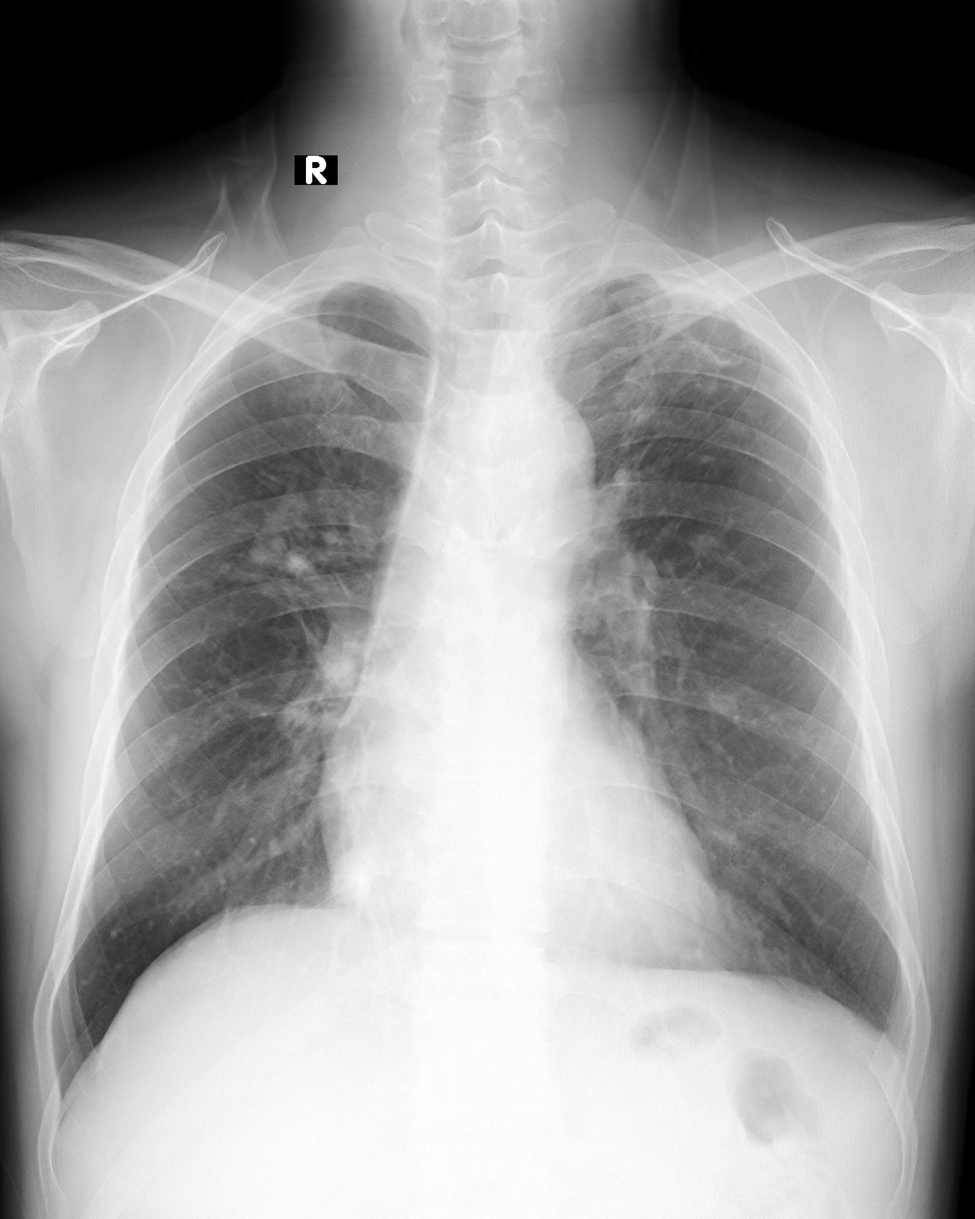Pleural thickening: (873, 969, 925, 1099), (560, 274, 644, 302)
Pulmonary fibrosis: (232, 463, 399, 660), (595, 327, 736, 481)
